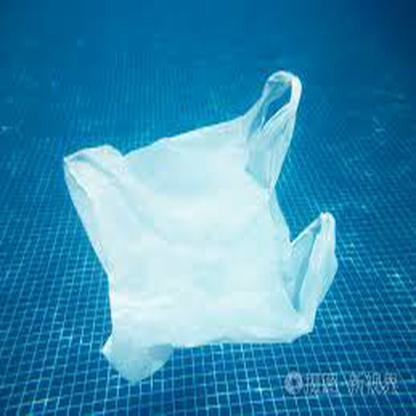plastic bag: (61, 69, 339, 384)
